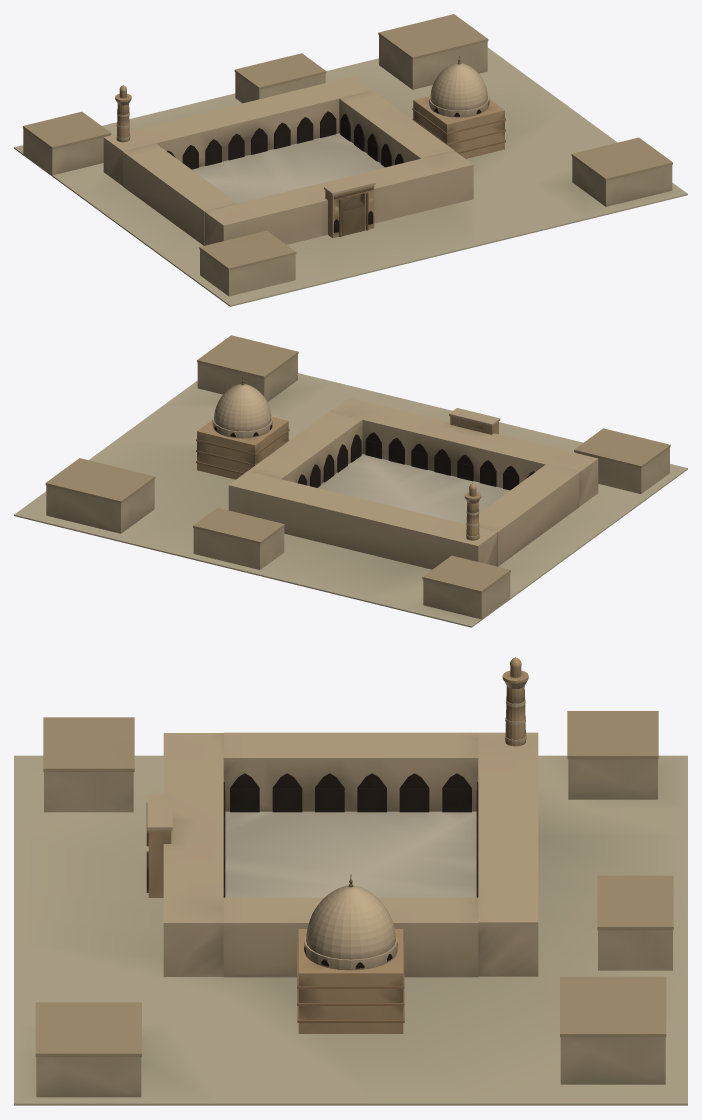
The model's file is gilani-1200.glb.
The picture shows the model from 3 angles, top to bottom: view 1: azimuth 30°, elevation 25°; view 2: azimuth 150°, elevation 25°; view 3: azimuth 270°, elevation 25°; orthographic projection. The views are drawn at different scales.
Visible parts, largest first — view 1: p0_madrasa, p3_houses, p2_tomb, p1_gate; view 2: p0_madrasa, p3_houses, p2_tomb, p1_gate; view 3: p0_madrasa, p3_houses, p2_tomb, p1_gate.
Boxes of the visible parts, x1,y1,x2,y2 form: p0_madrasa: (14, 47, 687, 306); p3_houses: (23, 14, 672, 296); p2_tomb: (115, 56, 505, 158); p1_gate: (324, 176, 375, 238); p0_madrasa: (14, 373, 687, 627); p3_houses: (45, 335, 670, 619); p2_tomb: (196, 377, 481, 540); p1_gate: (449, 408, 500, 434); p0_madrasa: (14, 732, 687, 1105); p3_houses: (35, 711, 673, 1097); p2_tomb: (297, 657, 528, 1033); p1_gate: (146, 794, 172, 897).
Bounding box in the file's own units: 110 × 20.98 × 90.
